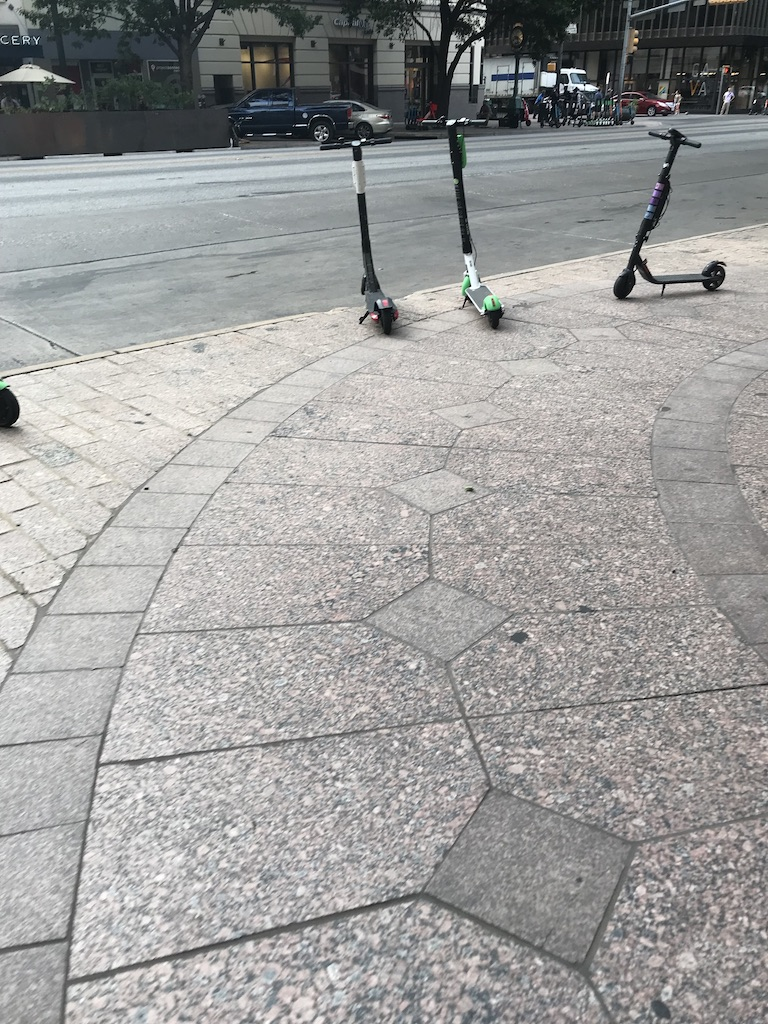scooter: (614, 127, 732, 304), (420, 119, 506, 329), (318, 137, 400, 336)
